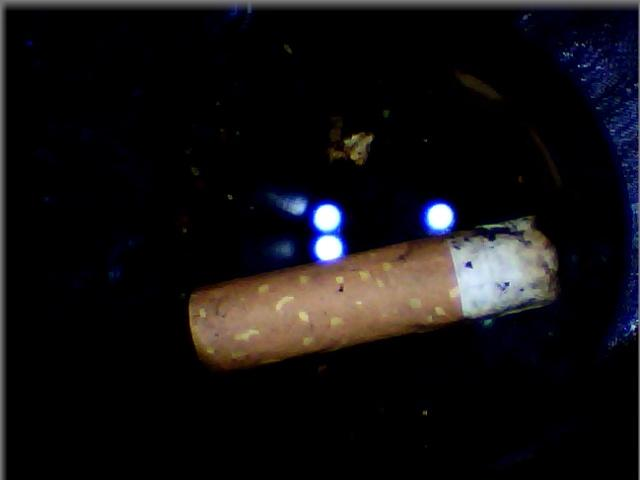megot: (171, 203, 575, 383)
